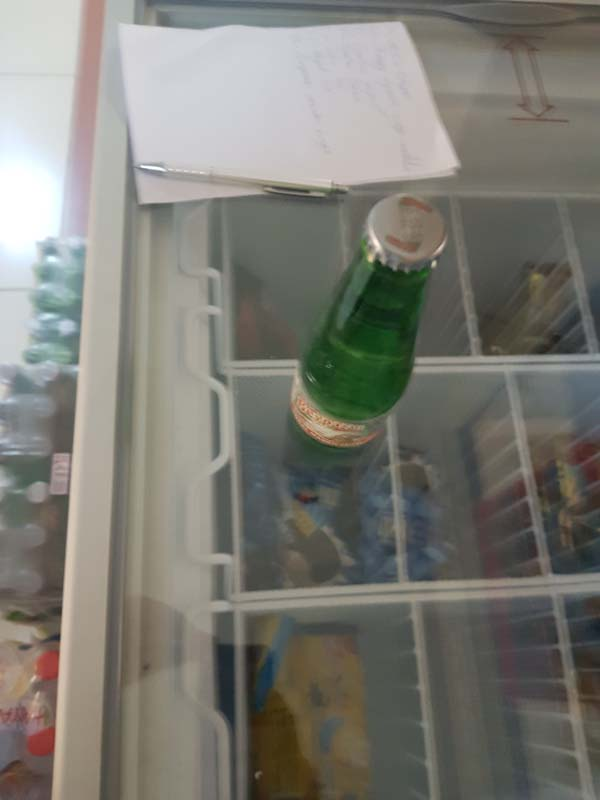beypazarimadensuyu: (285, 191, 455, 452)
